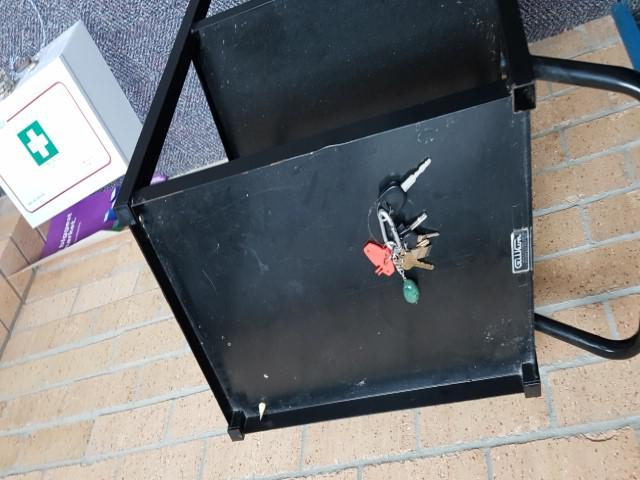key: (376, 156, 434, 211)
